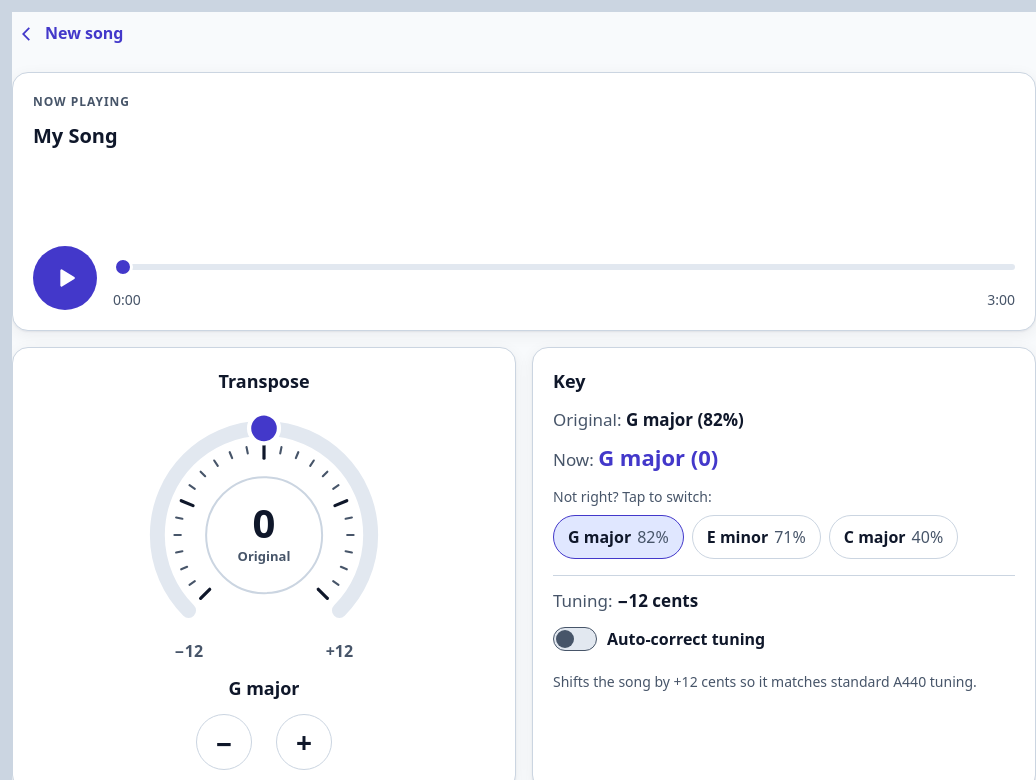
Scenario: TrackWorkspace › switching to an alternate key changes the displayed basis
This screenshot has width=1036, height=780.
Expected: the button named "Play" is enabled, [33, 246, 97, 310]
Click the button "E minor 71%": (756, 536) [692, 514, 821, 558]
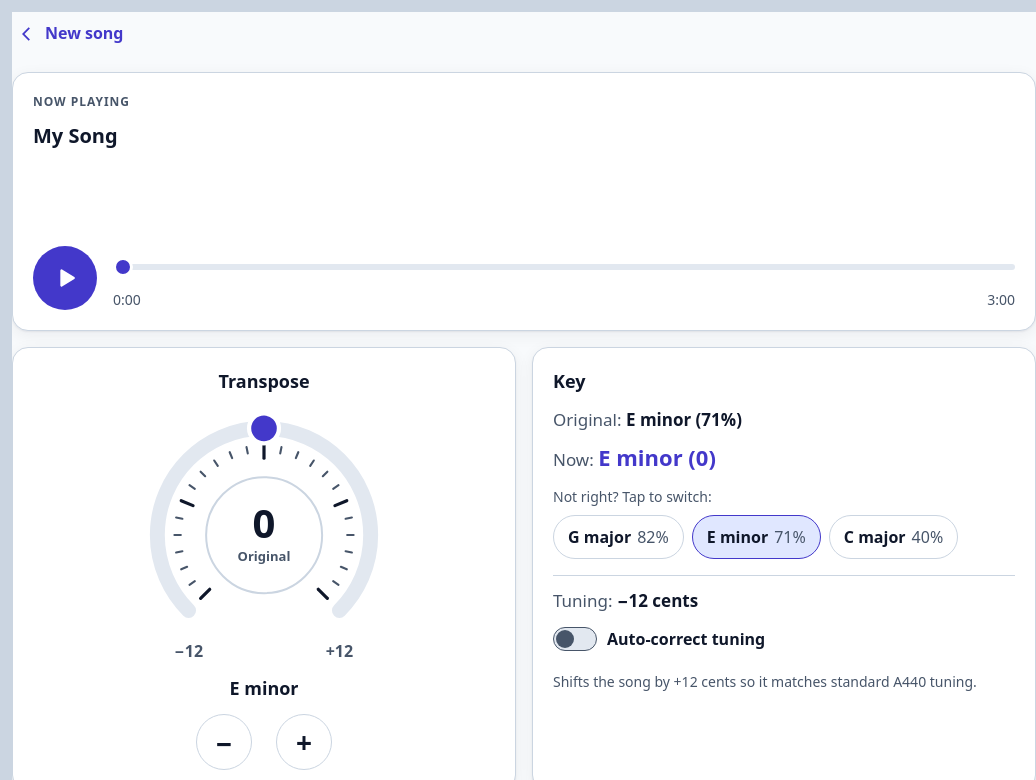
Expected: the text "Original:" shows "E minor (71%)", [553, 408, 742, 431]
